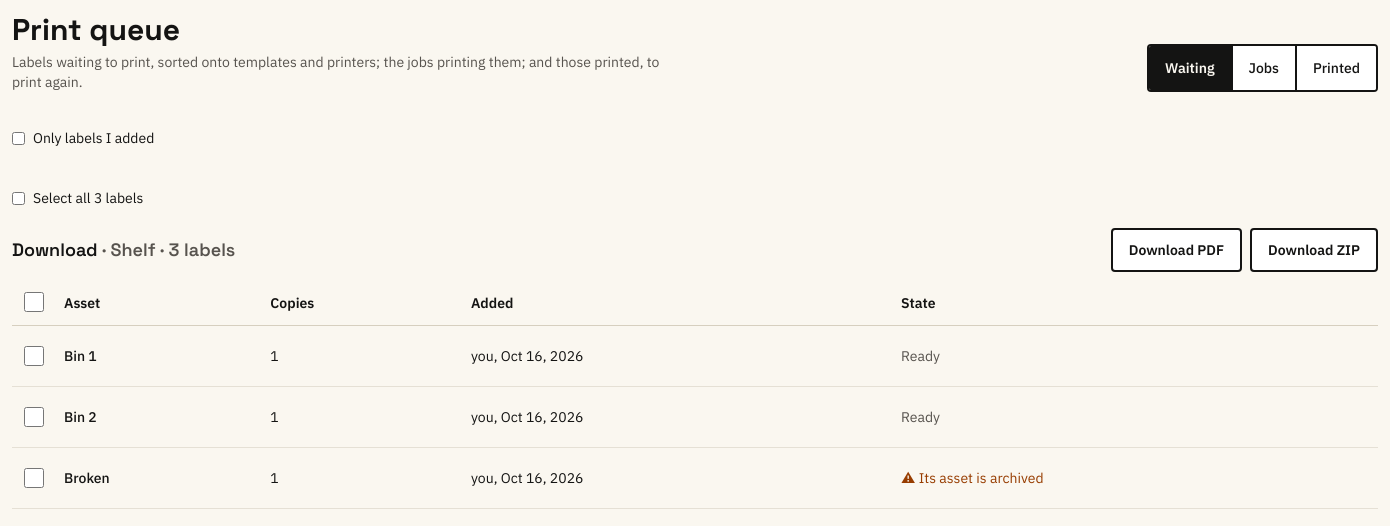
Test: SpoolPage › downloads a group, counting what could not be produced
Step 1. Click the button "Download PDF" → (1176, 250), box [1111,228,1242,272]
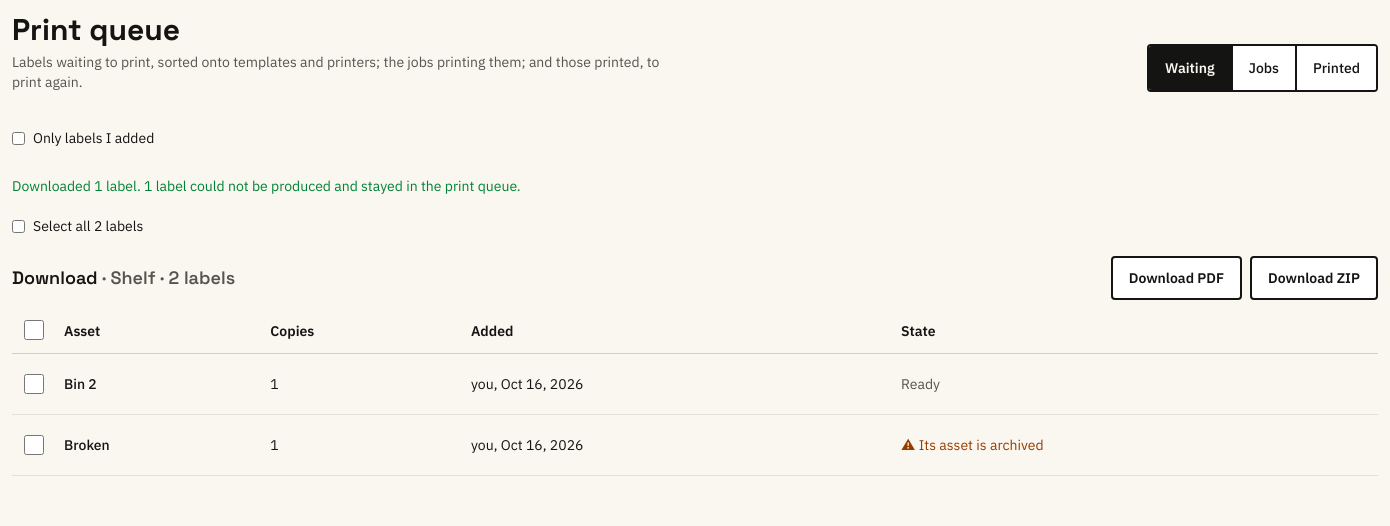
expect the text "Downloaded 1 label. 1 label could not be produced and stayed in the print queue." is shown: met, box [12,177,521,195]
